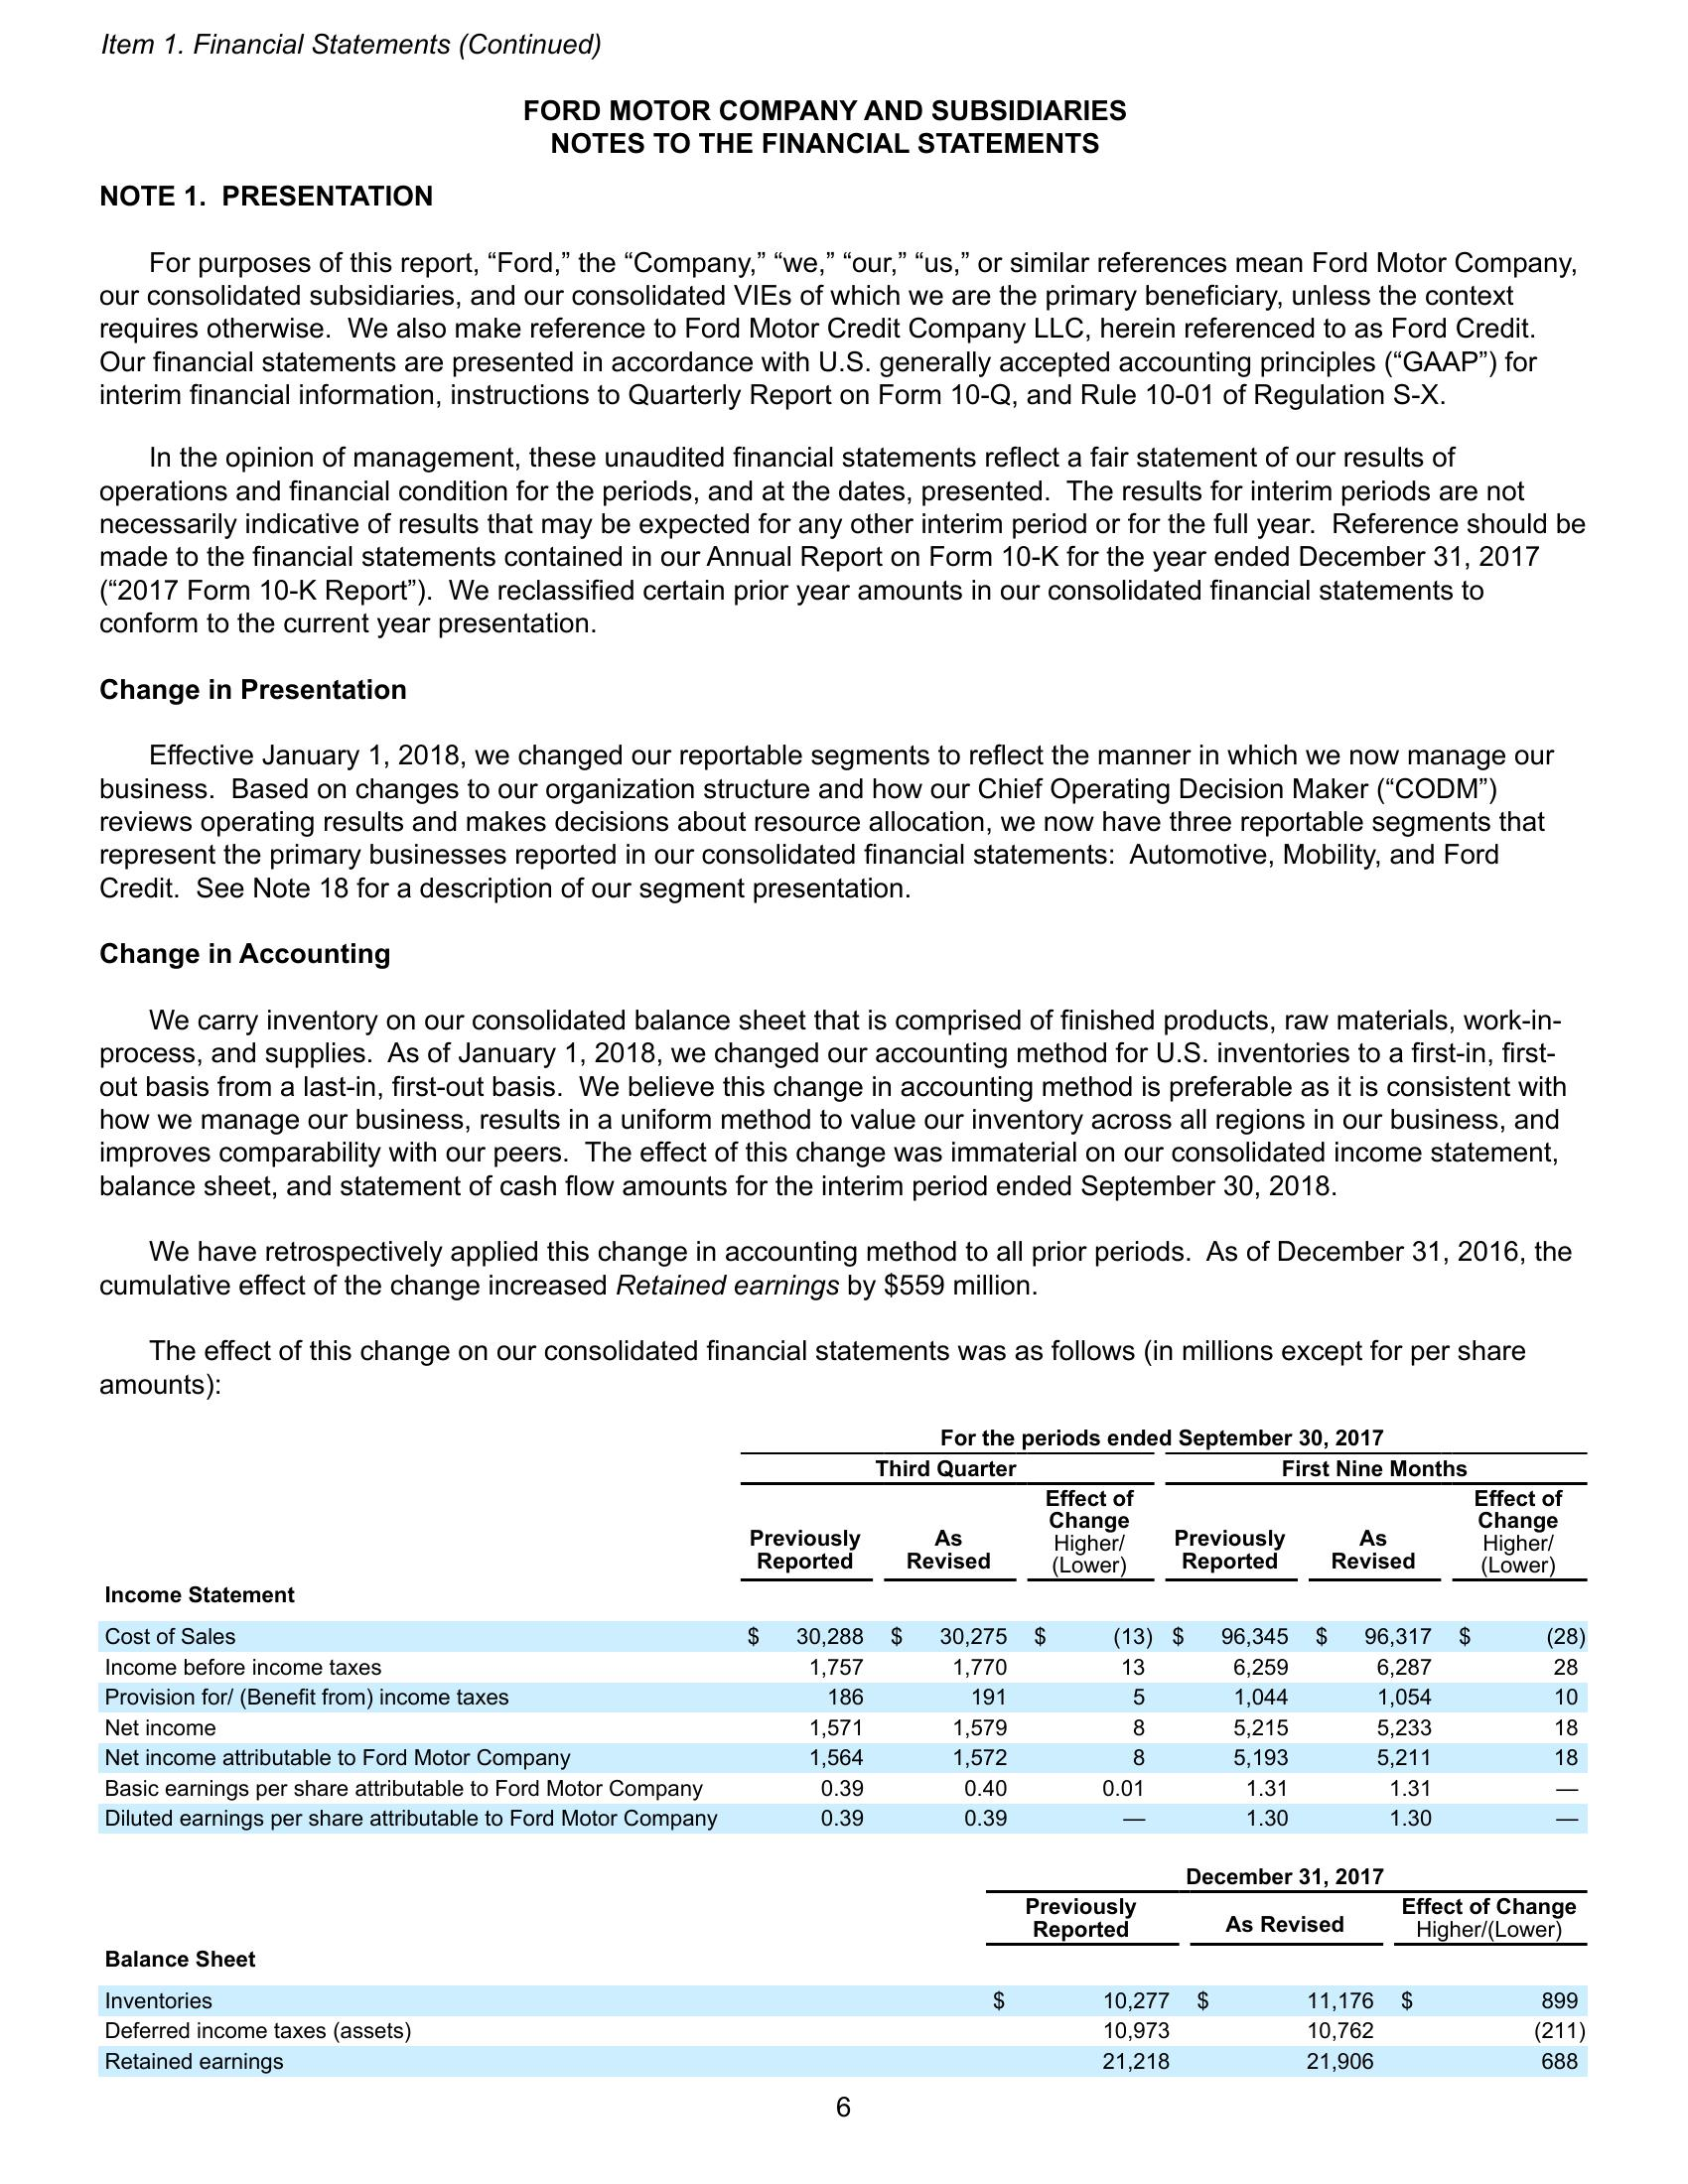table: (98, 1418, 1596, 1844), (92, 1860, 1596, 2083)
